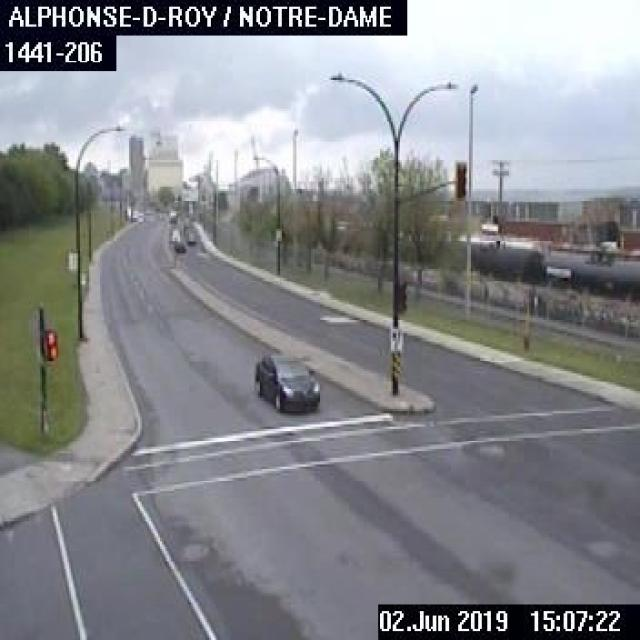vehicle: (251, 351, 320, 413), (168, 236, 186, 251)
